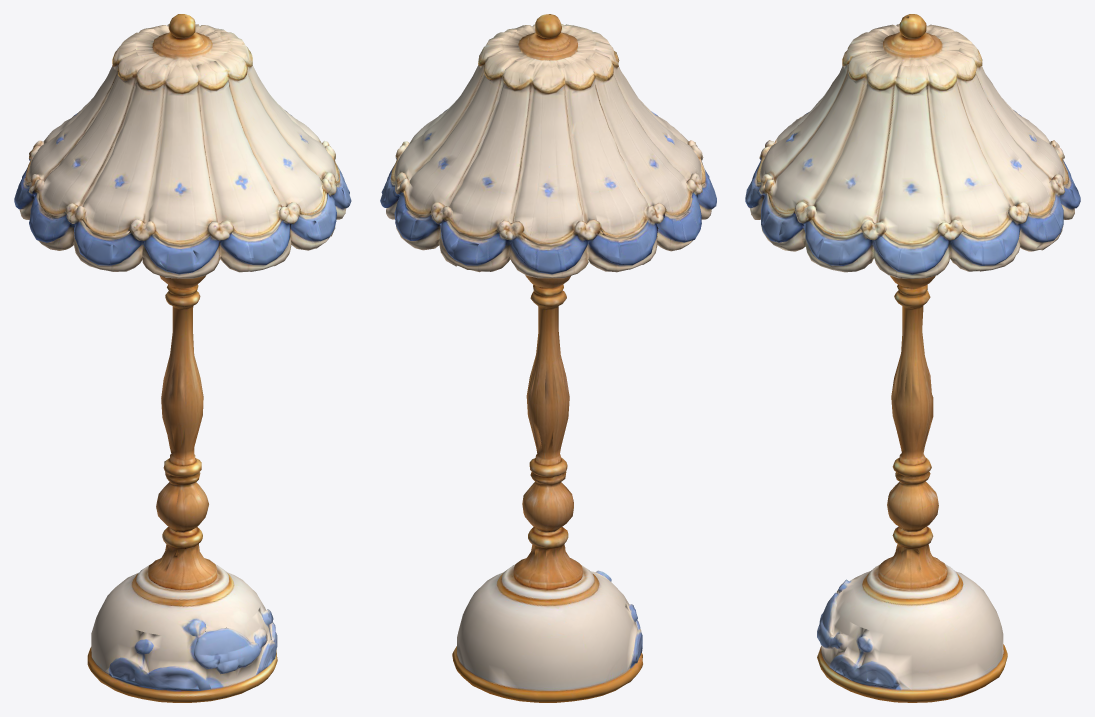
The model's file is whale-lamp-v1.glb.
3 renders of one model, left to right at view 1: azimuth 30°, elevation 25°; view 2: azimuth 150°, elevation 25°; view 3: azimuth 270°, elevation 25°, orthographic.
Parts seen in each view (by area): view 1: whale-lamp-v1; view 2: whale-lamp-v1; view 3: whale-lamp-v1.
Boxes of the visible parts, x1,y1,x2,y2 form: whale-lamp-v1: (14,14,351,702); whale-lamp-v1: (380,14,716,702); whale-lamp-v1: (745,14,1080,702).
Size of the model in its own units: 0.6603 by 1.4 by 0.6548.
1 material, 1 textured.
